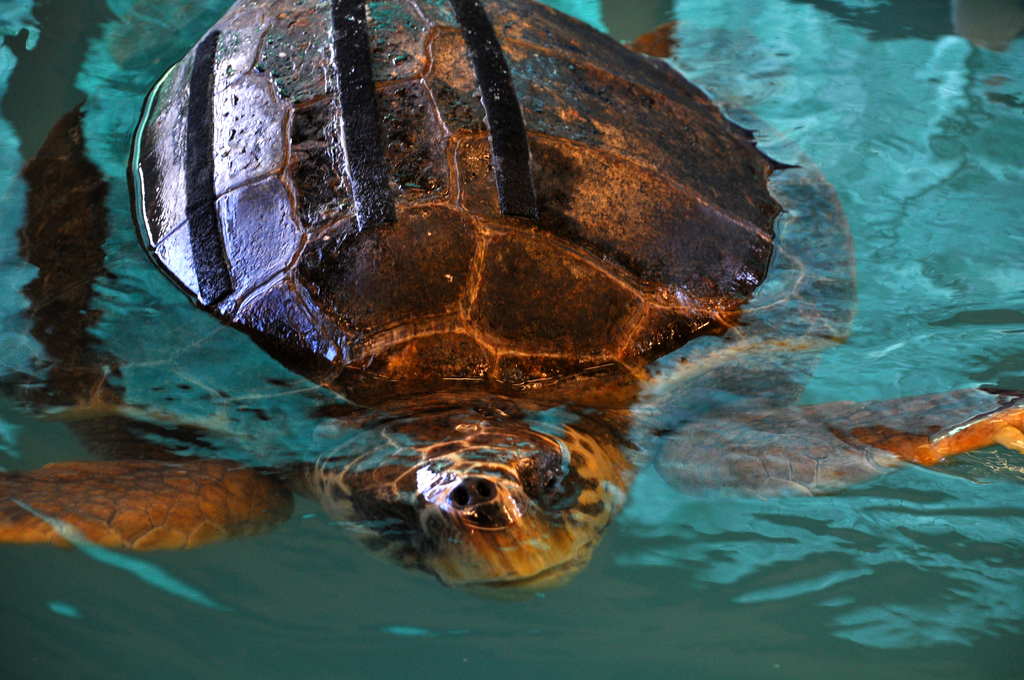Sea turtles: (0, 0, 1023, 594)
